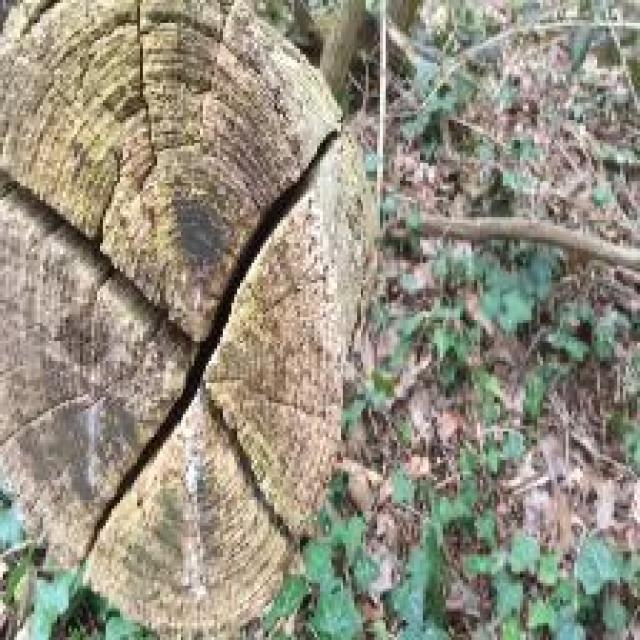other: (272, 269, 604, 532)
